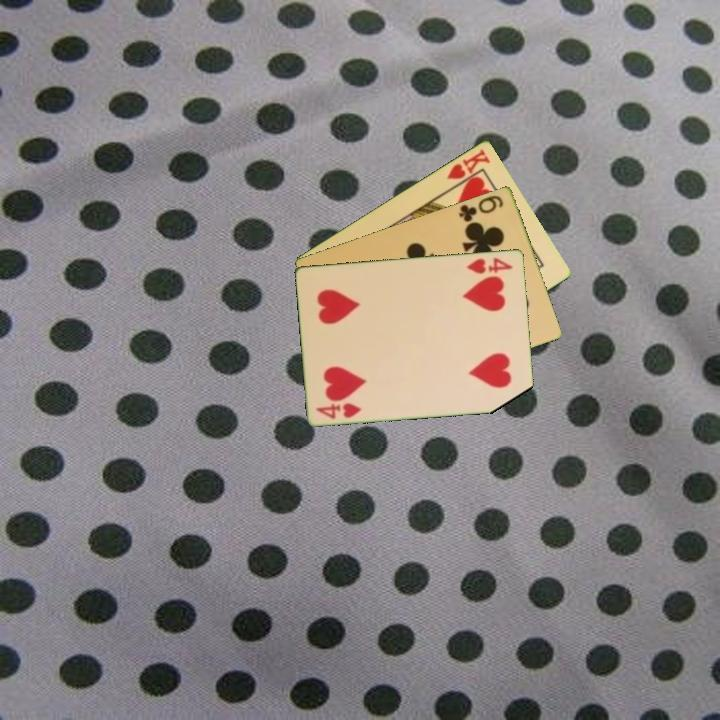4h: (313, 399, 365, 422), (463, 254, 516, 276)
6c: (455, 191, 506, 225)
Kh: (443, 145, 493, 191)
